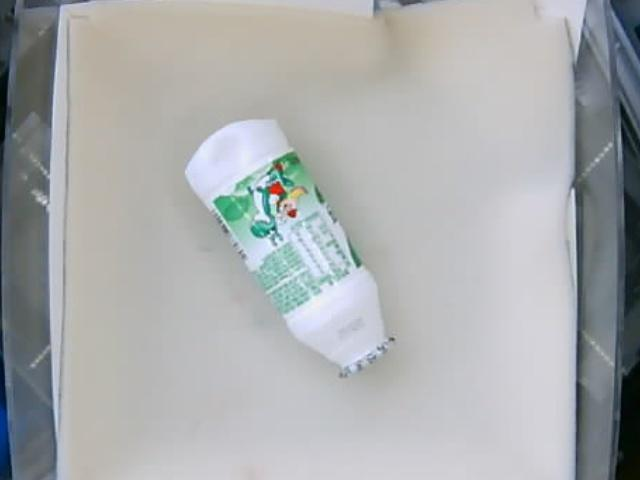Bottle: (182, 114, 389, 379)
